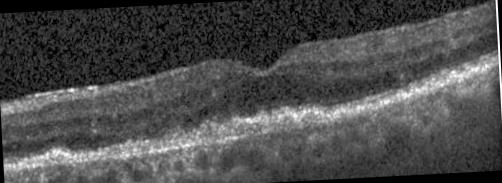subretinal_hyperreflective_material: (194, 102, 325, 134), (20, 145, 74, 162)
